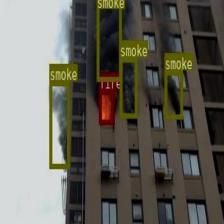fire: (99, 89, 113, 123)
smoke: (96, 0, 121, 80), (49, 80, 69, 167), (120, 57, 137, 118), (164, 70, 182, 118)
